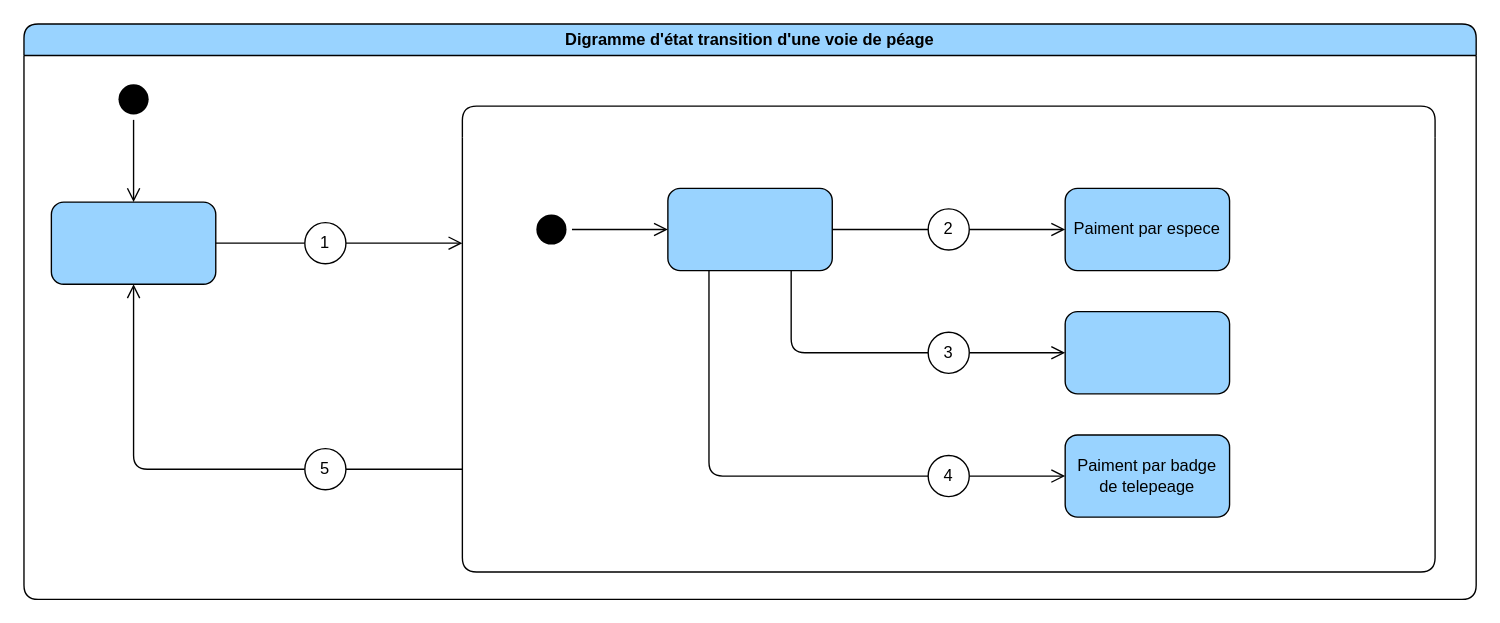
The diagram is 1500 pixels wide and 623 high, and some of its shapes have lost their labels. The box of each missing label's shape, as (x1, y1, x2, y2) in pixels:
Active: (461, 105, 1435, 572)
Hors-service: (50, 201, 216, 284)
Paiment par application mobile: (1064, 310, 1230, 394)
Pas de methode paiment selectionnée: (667, 187, 832, 271)
